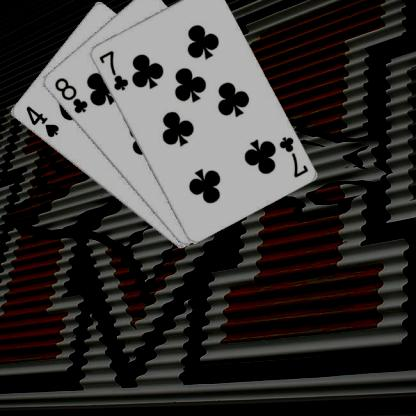4S: (23, 103, 60, 139)
7C: (96, 48, 129, 92), (276, 134, 309, 178)
8C: (51, 74, 89, 115)
